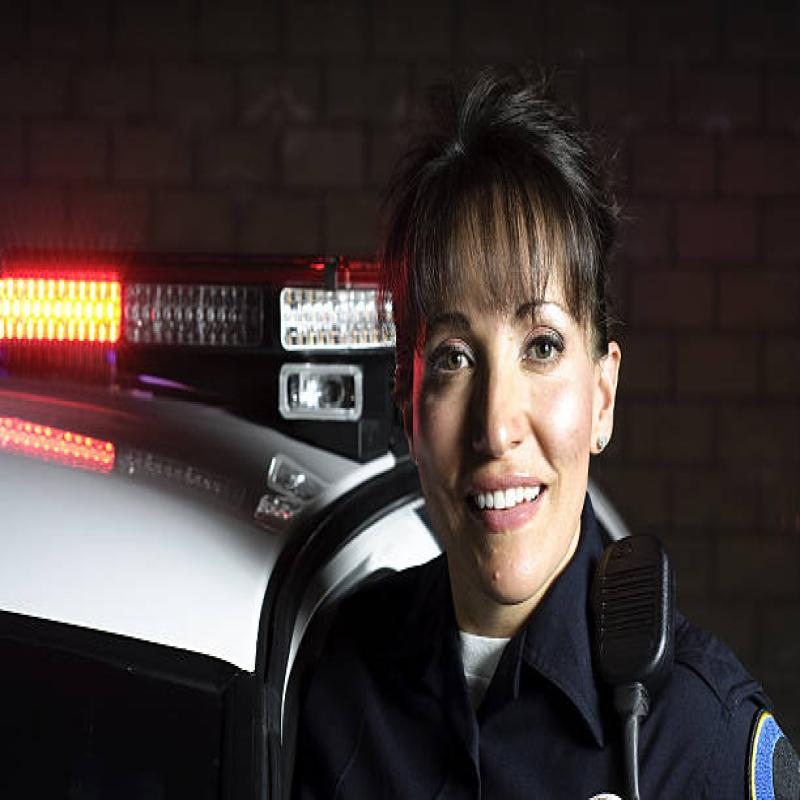AmbulanceSiren: (0, 220, 397, 394)
